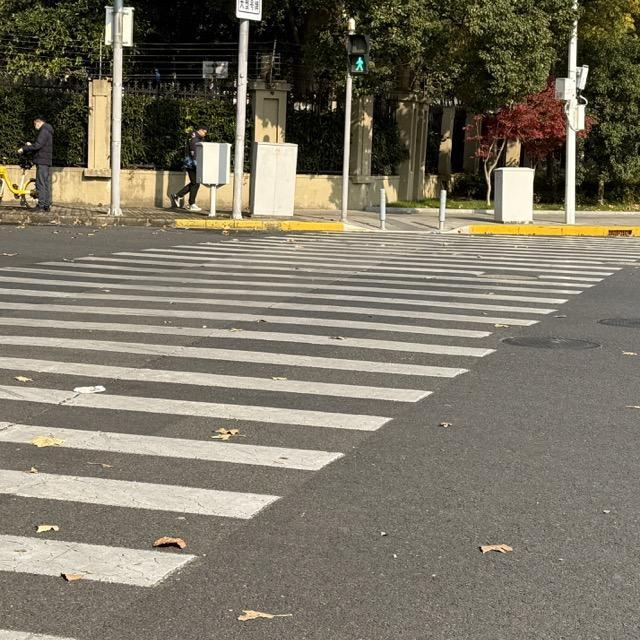curb: (0, 212, 366, 231), (447, 223, 639, 237)
